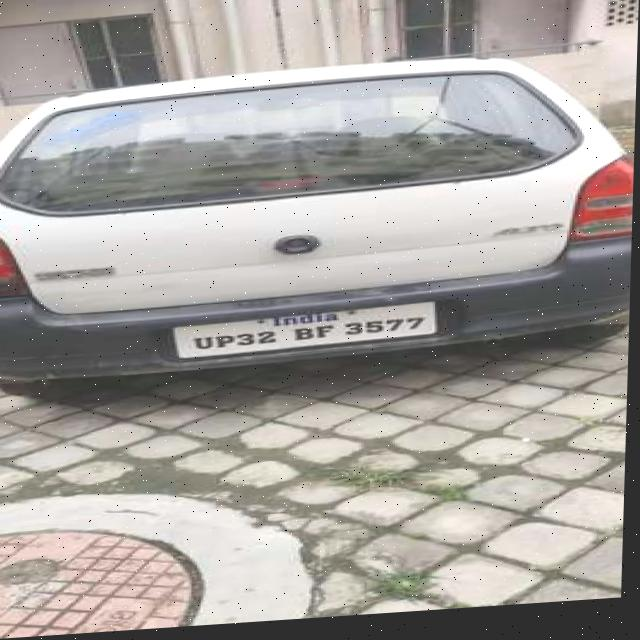plate: (176, 308, 442, 360)
